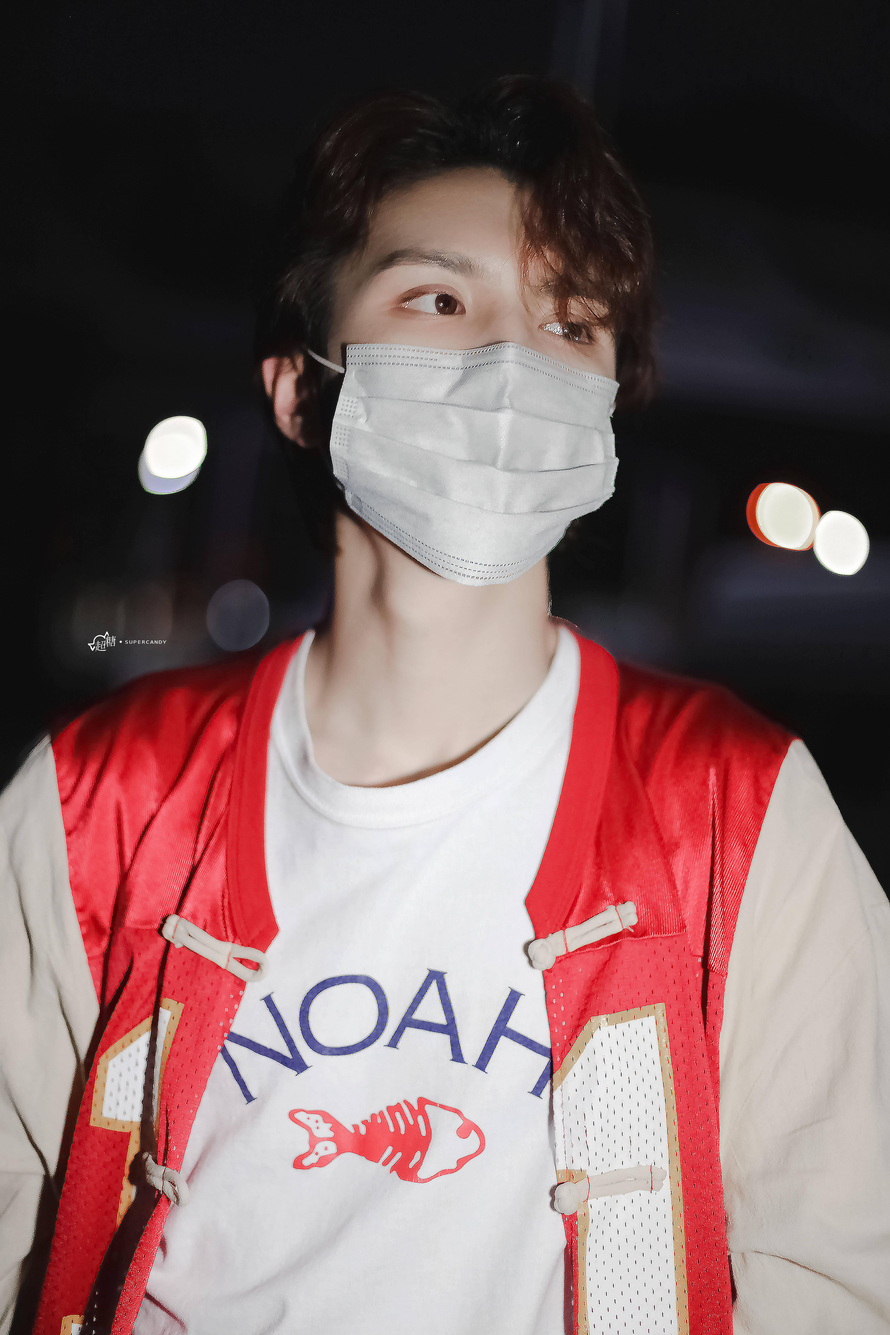OK: (332, 220, 622, 584)
